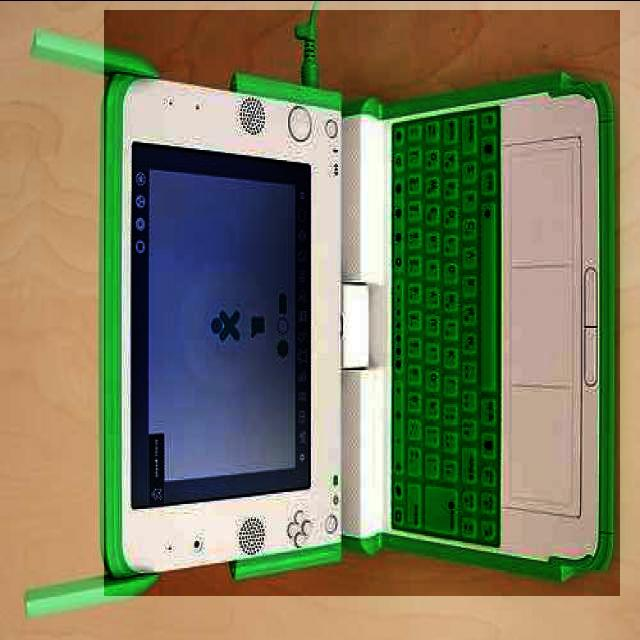-keyboard-: (104, 11, 620, 596)
